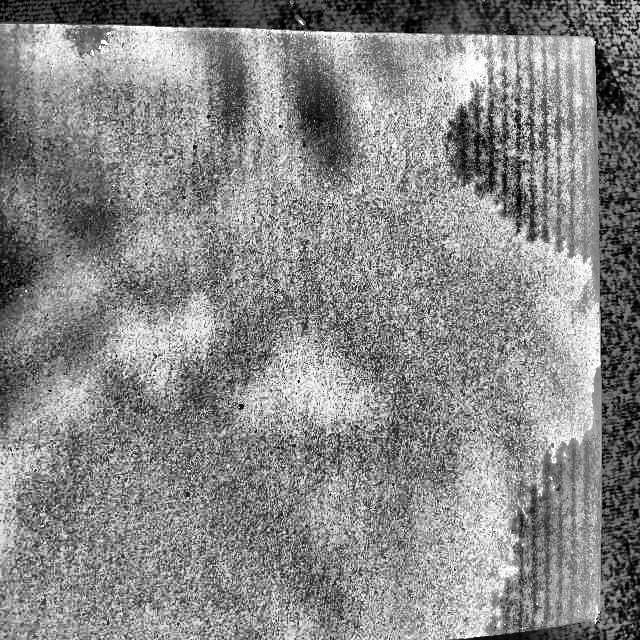box: (0, 22, 603, 639)
wet: (442, 32, 618, 274), (514, 407, 599, 631)
